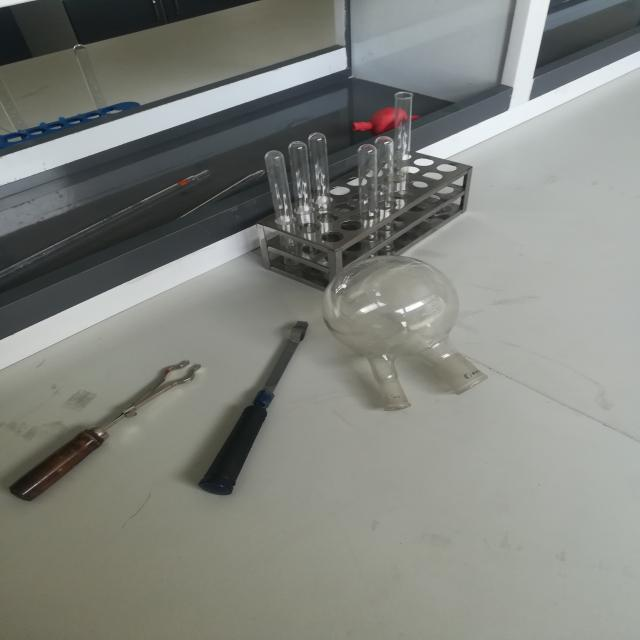Round_Bottom_Flask_Borosilicate_Glass_2_Neck: (328, 238, 506, 442)
TestTube_Holder: (13, 310, 198, 560), (196, 286, 311, 526)
